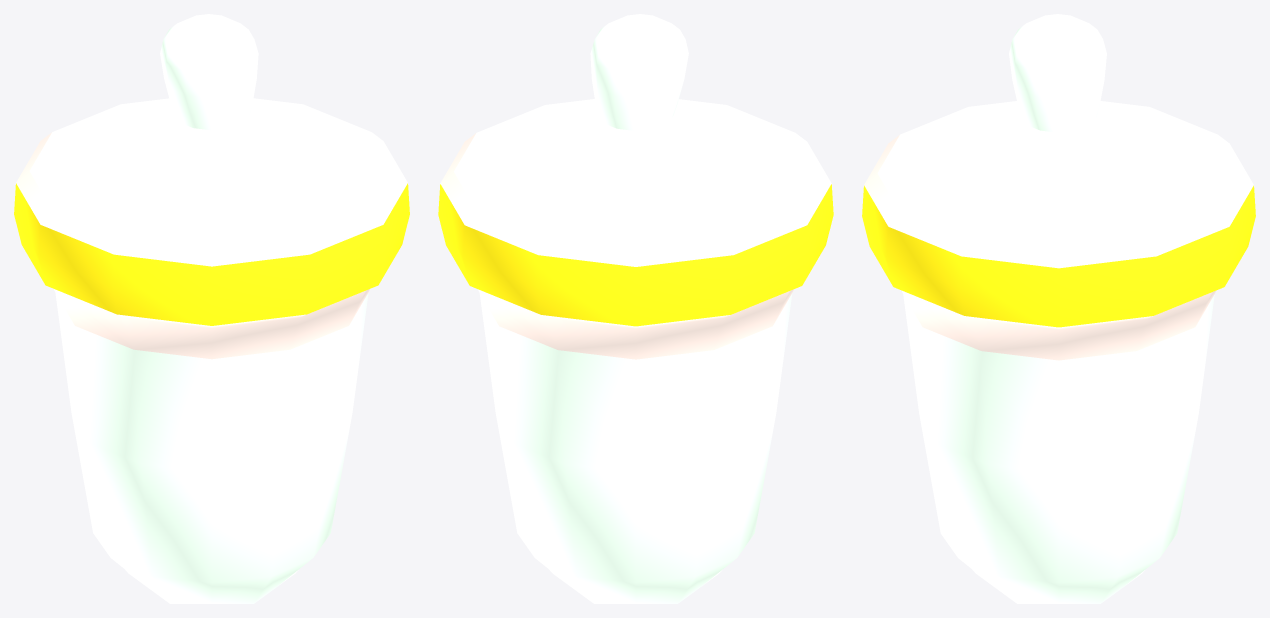
Rendered from BabyBottle.fbx.
3 renders of one model, left to right at view 1: azimuth 30°, elevation 25°; view 2: azimuth 150°, elevation 25°; view 3: azimuth 270°, elevation 25°, orthographic.
Visible parts, largest first — view 1: Cylinder_2; view 2: Cylinder_2; view 3: Cylinder_2.
Boxes of the visible parts, left/top/right/bottom form: Cylinder_2: left=14, top=14, right=409, bottom=603; Cylinder_2: left=438, top=14, right=833, bottom=603; Cylinder_2: left=862, top=14, right=1255, bottom=603.
Size of the model in its own units: 138 by 212 by 136.
